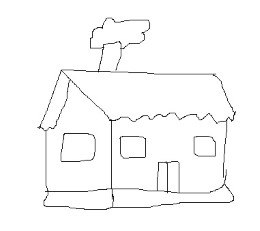door: (154, 154, 186, 196)
open_window: (55, 128, 102, 168), (117, 130, 151, 160), (189, 131, 220, 161)
roof: (32, 65, 240, 131)
smoking_chimney: (88, 9, 153, 84)
wall: (106, 111, 230, 196)
